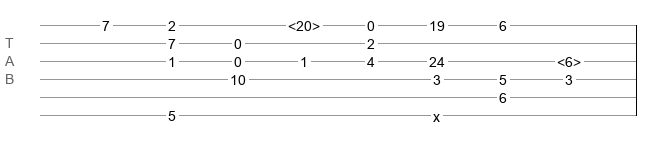0: (234, 36, 242, 46), (234, 54, 242, 64), (367, 18, 375, 28)
1: (168, 54, 176, 64), (300, 54, 308, 64)
10: (230, 72, 246, 82)
19: (429, 18, 445, 28)
2: (168, 18, 176, 28), (367, 36, 375, 46)
24: (429, 54, 445, 64)
3: (433, 72, 441, 82), (565, 72, 573, 82)
4: (367, 54, 375, 64)
5: (168, 108, 176, 118), (499, 72, 507, 82)
6: (499, 18, 507, 28), (499, 90, 507, 100)
7: (102, 18, 110, 28), (168, 36, 176, 46)
harmonic: (288, 18, 320, 28), (557, 54, 581, 64)
x: (433, 109, 440, 117)
